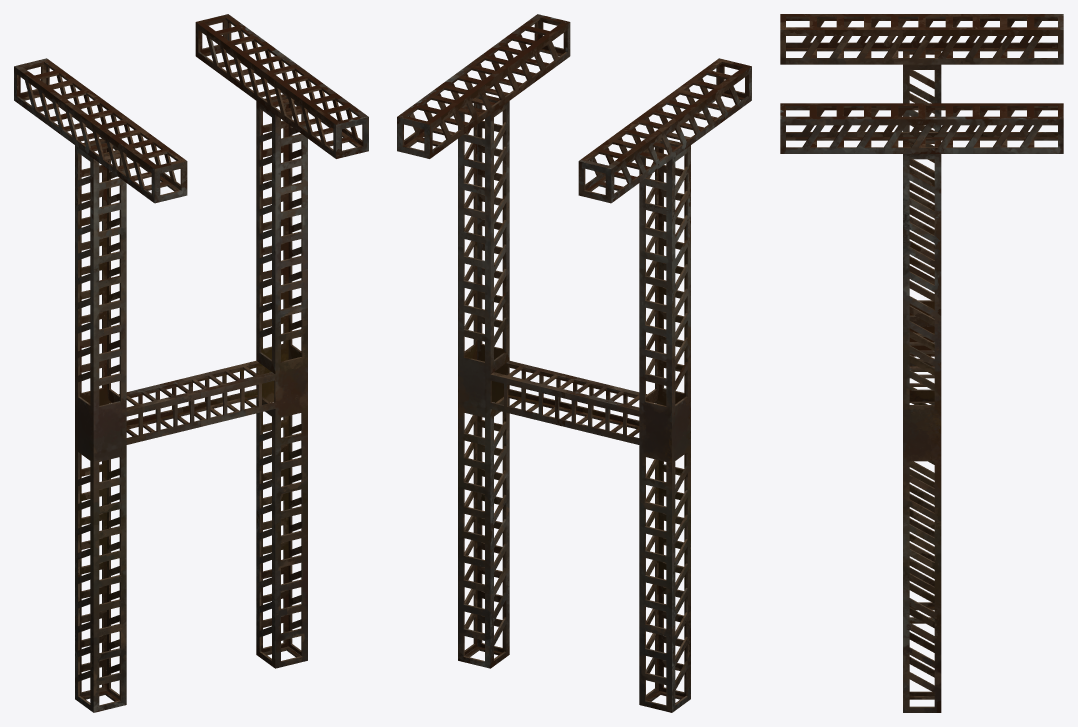
File: OBJ_Podpora_full.fbx
3 renders of one model, left to right at view 1: azimuth 30°, elevation 25°; view 2: azimuth 150°, elevation 25°; view 3: azimuth 270°, elevation 25°, orthographic.
Visible parts, largest first — view 1: Podpory_full; view 2: Podpory_full; view 3: Podpory_full.
Boxes of the visible parts, x1,y1,x2,y2 form: Podpory_full: (14,14,368,712); Podpory_full: (397,14,751,712); Podpory_full: (780,14,1063,712).
Bounding box in the file's own units: 3.52 × 4 × 9.24.
